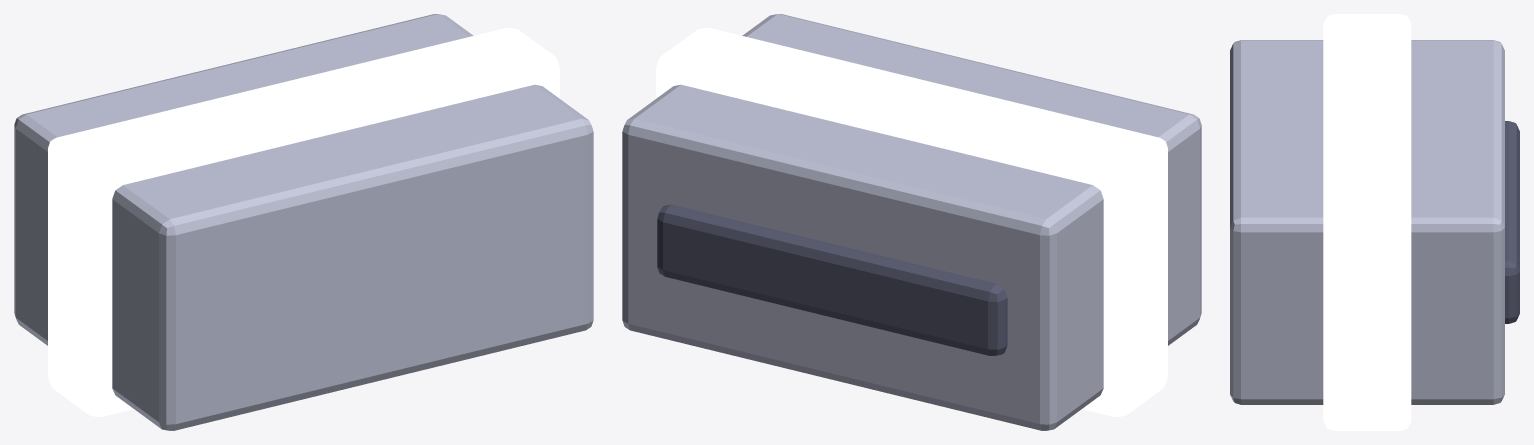
The model's file is brick_steel.glb.
3 views of the same model, side by side, from view 1: azimuth 30°, elevation 25°; view 2: azimuth 150°, elevation 25°; view 3: azimuth 270°, elevation 25° (orthographic). The views are drawn at different scales.
Parts seen in each view (by area): view 1: brick_steel; view 2: brick_steel; view 3: brick_steel.
Boxes of the visible parts, <box> form: brick_steel: <box>14,14,593,430</box>; brick_steel: <box>622,14,1201,430</box>; brick_steel: <box>1230,14,1519,430</box>.
Bounding box in the file's own units: 0.98 × 0.5 × 0.5908.
